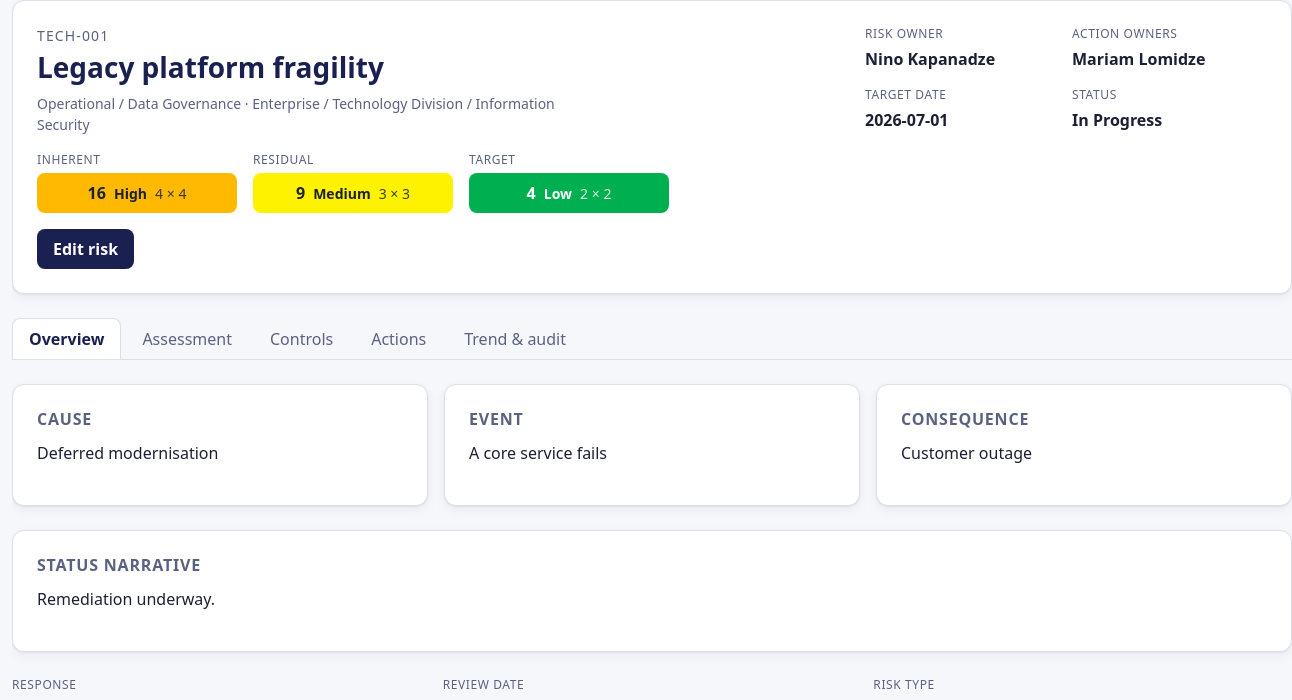
Test: assessment tab › renders three matrices with the correct cell selected
Click the tab "Assessment" at (187, 339), box [125,318,249,359]
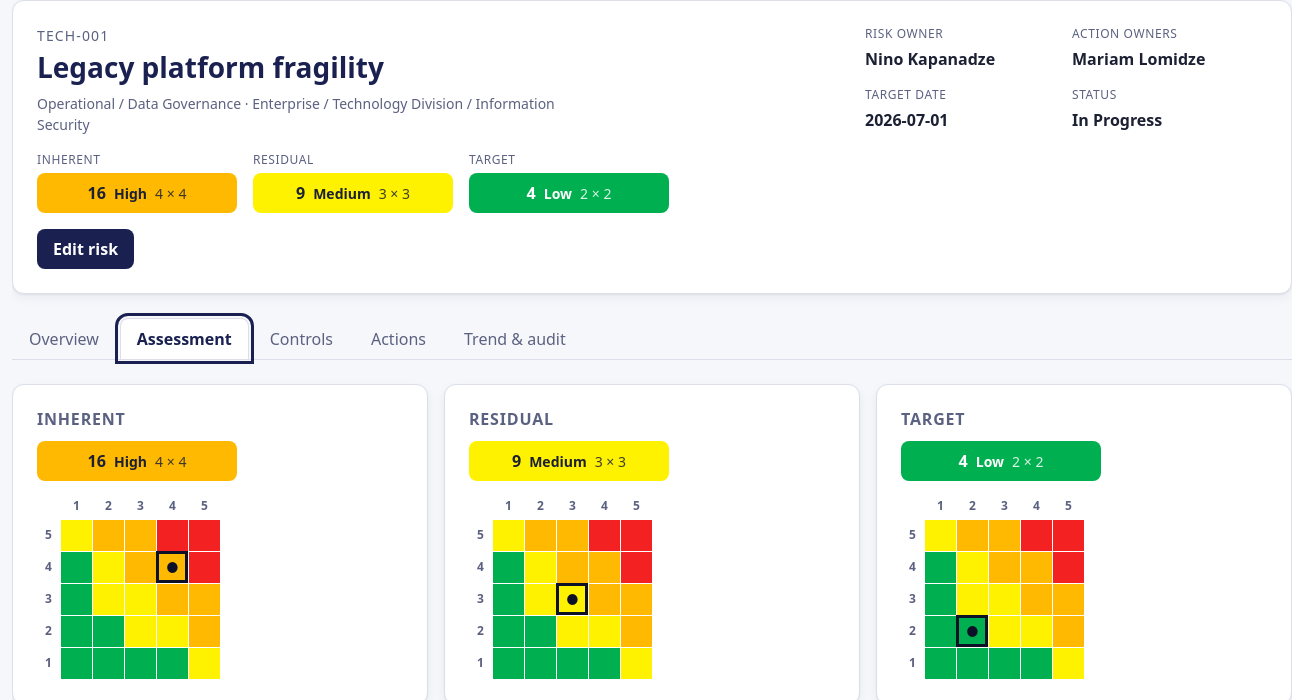
Now the 1st cell labelled "●" is shown, box [156,551,188,583]
Now the 2nd cell labelled "●" is shown, box [556,583,588,615]
Now the 3rd cell labelled "●" is shown, box [956,615,988,647]
